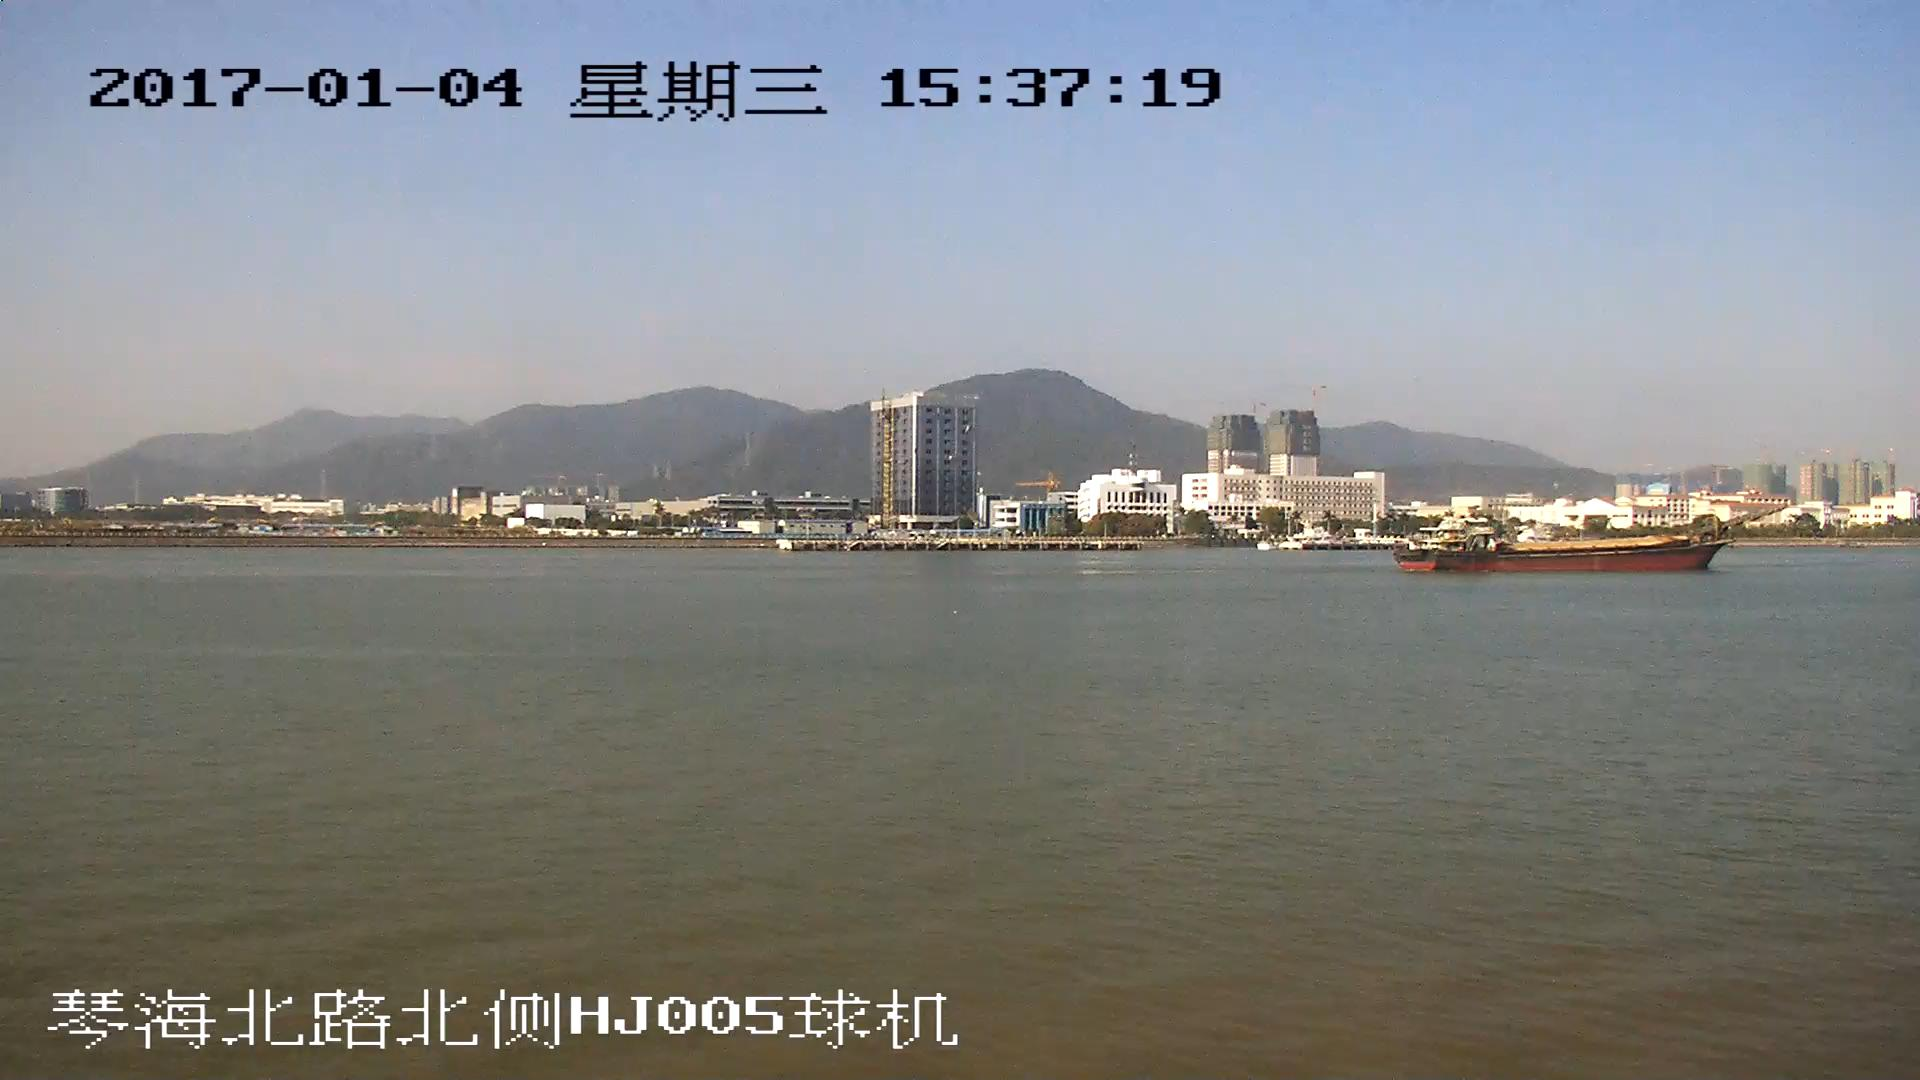bulk cargo carrier: (1397, 502, 1789, 573)
